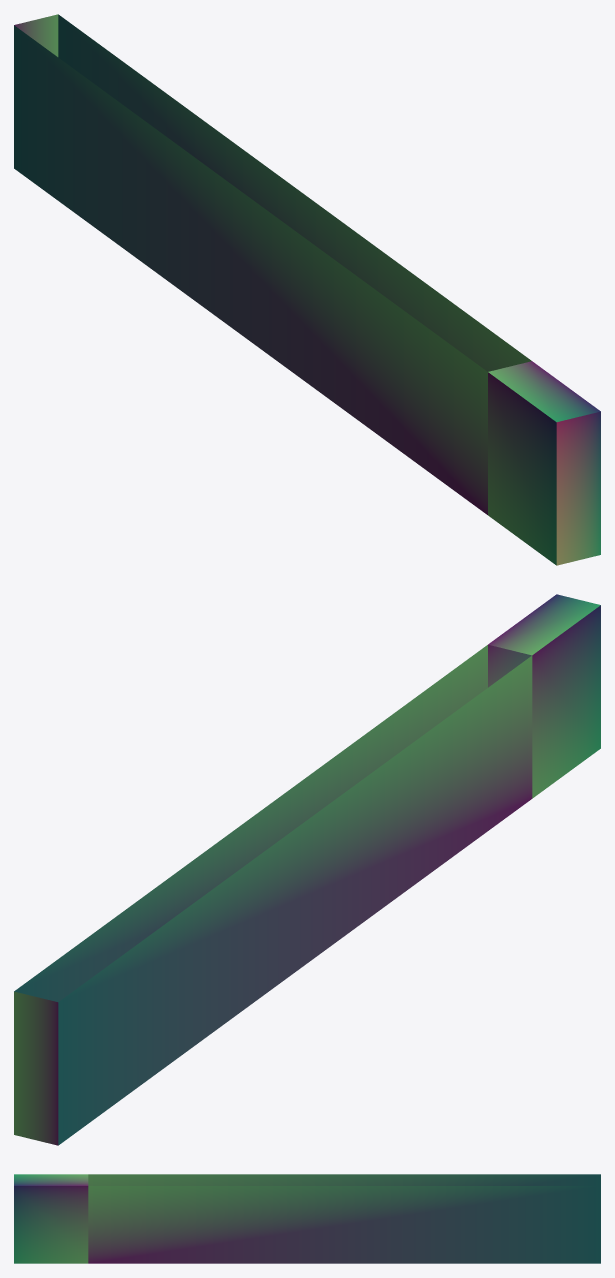
The model's file is Eff_Anbi_Weapon_002.fbx.
3 renders of one model, top to bottom at view 1: azimuth 30°, elevation 25°; view 2: azimuth 150°, elevation 25°; view 3: azimuth 270°, elevation 25°, orthographic. The views are drawn at different scales.
Parts seen in each view (by area): view 1: Eff_Anbi_Weapon_002; view 2: Eff_Anbi_Weapon_002; view 3: Eff_Anbi_Weapon_002.
Part boxes in pixels (x1,y1,x2,y2): Eff_Anbi_Weapon_002: (14,14,600,565); Eff_Anbi_Weapon_002: (14,594,600,1145); Eff_Anbi_Weapon_002: (14,1174,600,1263).
Size of the model in its own units: 0.0636 by 0.1967 by 1.35.
